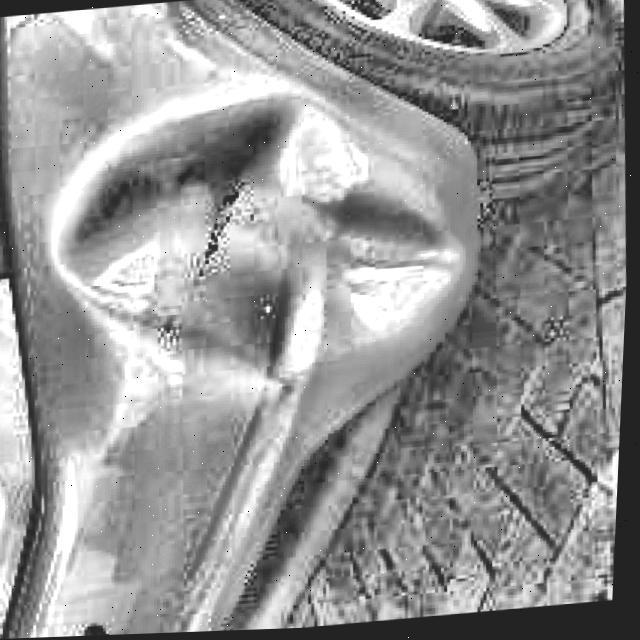bumper_dent: (40, 77, 483, 392)
